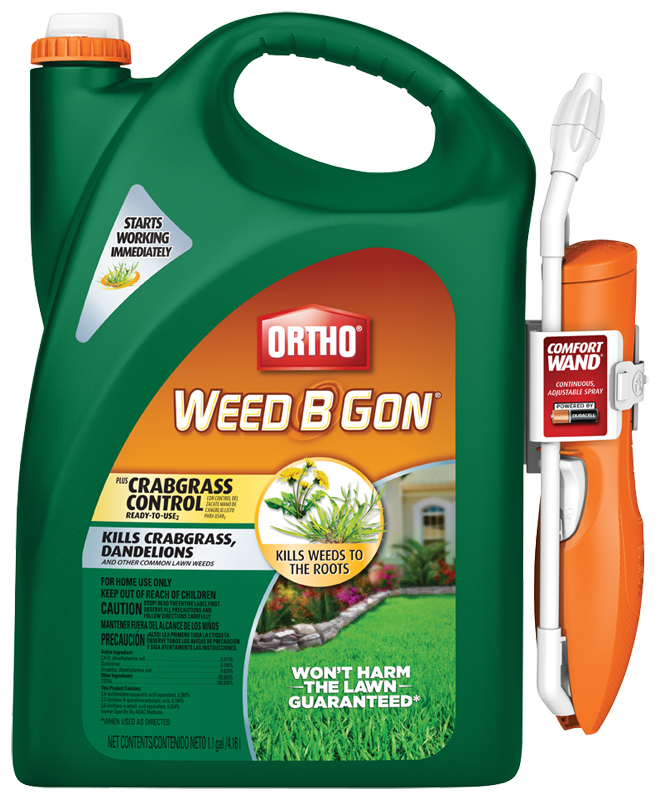crabgrass: (281, 497, 381, 545)
